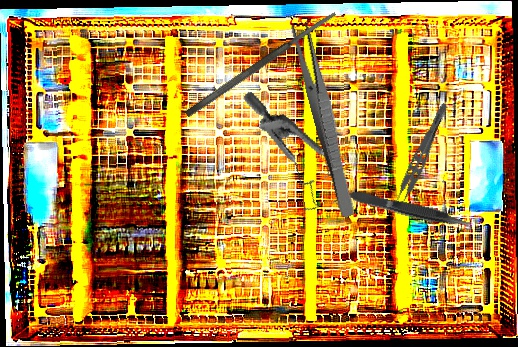Dressing Forceps: (288, 20, 361, 219)
Spatula Surgical: (183, 9, 339, 119)
Speculum: (214, 90, 369, 223)
Tissue Forceps: (388, 98, 451, 211), (347, 185, 476, 234)
